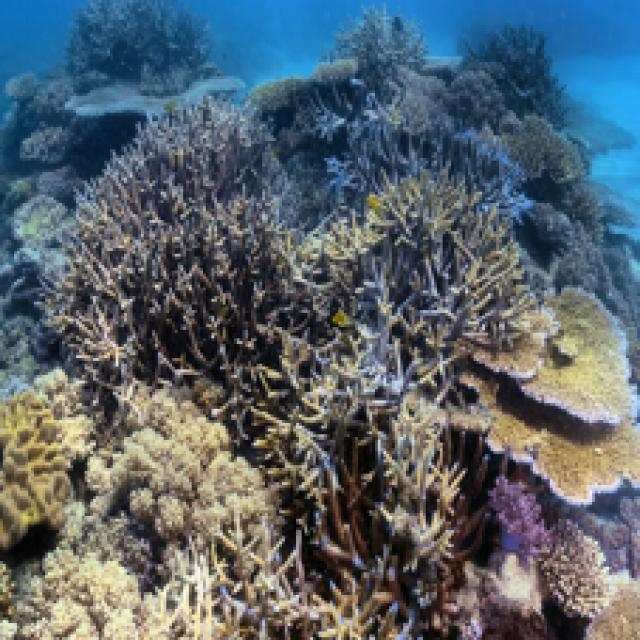Dead Coral: (43, 91, 319, 390), (288, 141, 571, 380), (343, 388, 483, 576)
